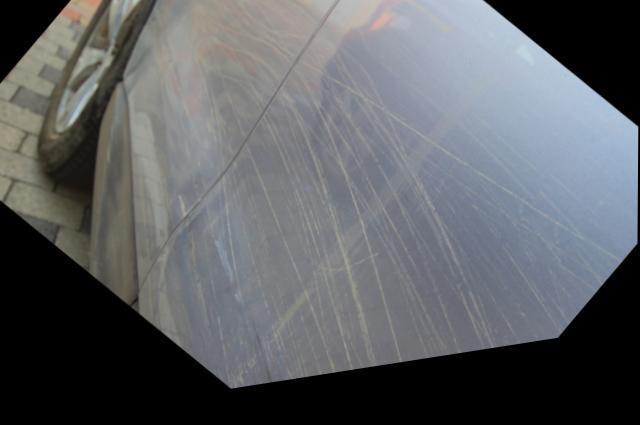scratch: (138, 29, 638, 396), (150, 0, 323, 220)
